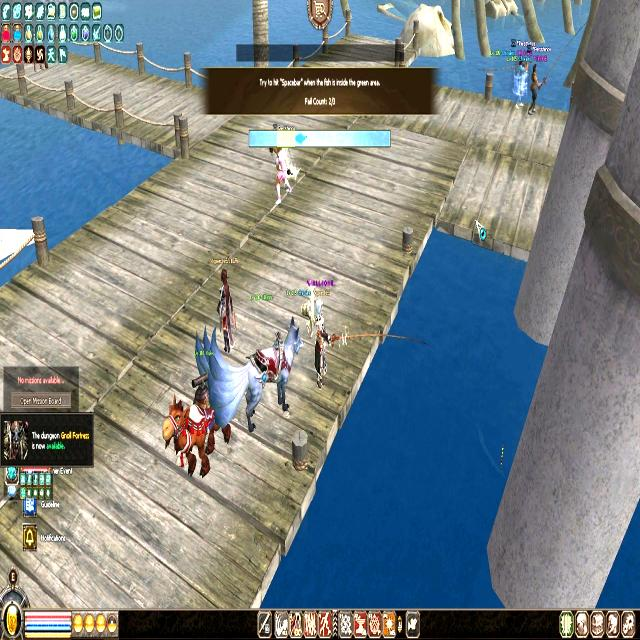fishes: (295, 132, 308, 144)
